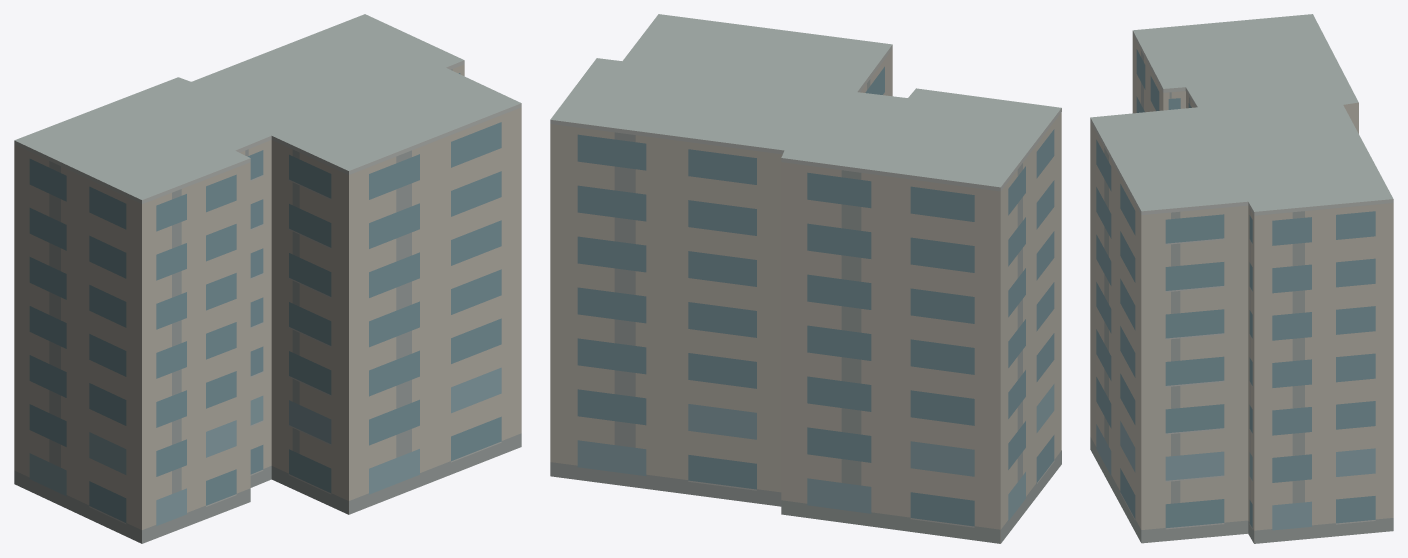
Rendered from survey-upis-32964968.glb.
3 views of the same model, side by side, from view 1: azimuth 30°, elevation 25°; view 2: azimuth 150°, elevation 25°; view 3: azimuth 270°, elevation 25° (orthographic). The views are drawn at different scales.
Visible parts, largest first — view 1: survey-upis-32964968.tmp; view 2: survey-upis-32964968.tmp; view 3: survey-upis-32964968.tmp.
Part boxes in pixels (x1=…): survey-upis-32964968.tmp: x1=14, y1=14, x2=521, y2=543; survey-upis-32964968.tmp: x1=550, y1=14, x2=1061, y2=543; survey-upis-32964968.tmp: x1=1090, y1=14, x2=1393, y2=543.
Size of the model in its own units: 26.6 by 20.8 by 17.23.
